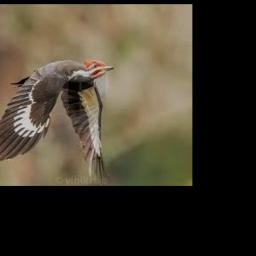Woodpecker: (0, 60, 114, 177)
